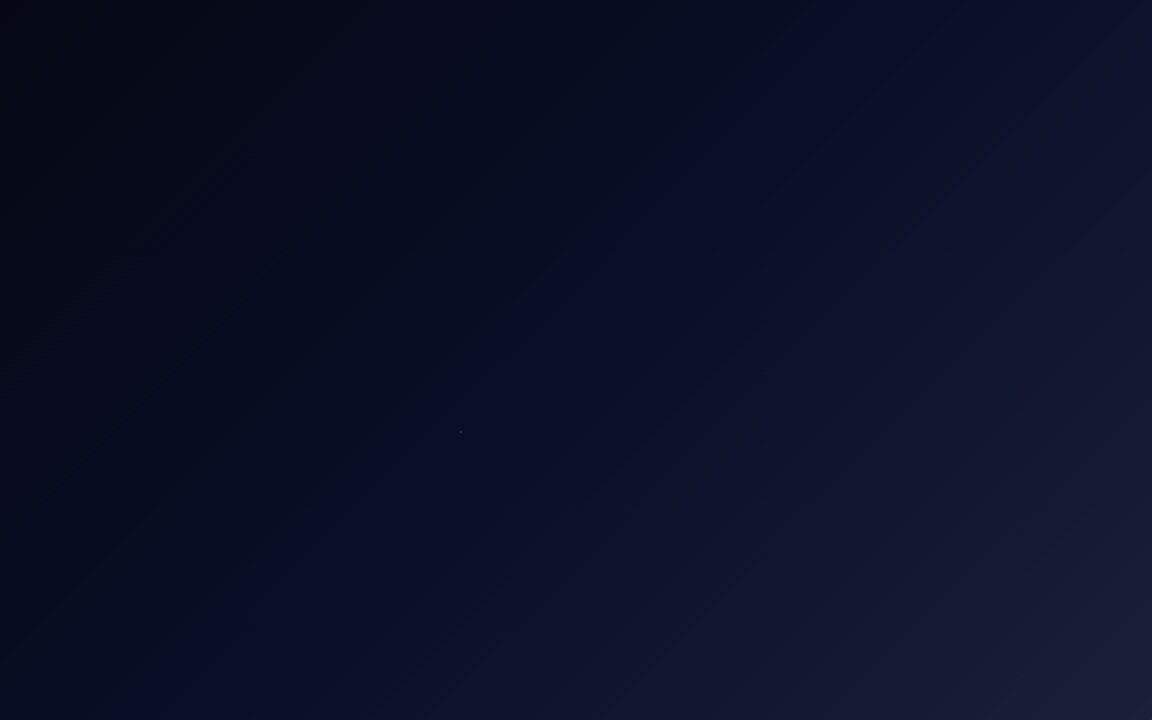
InventoryPanel › Filter Functionality › should filter to show only tradeable items
Press i
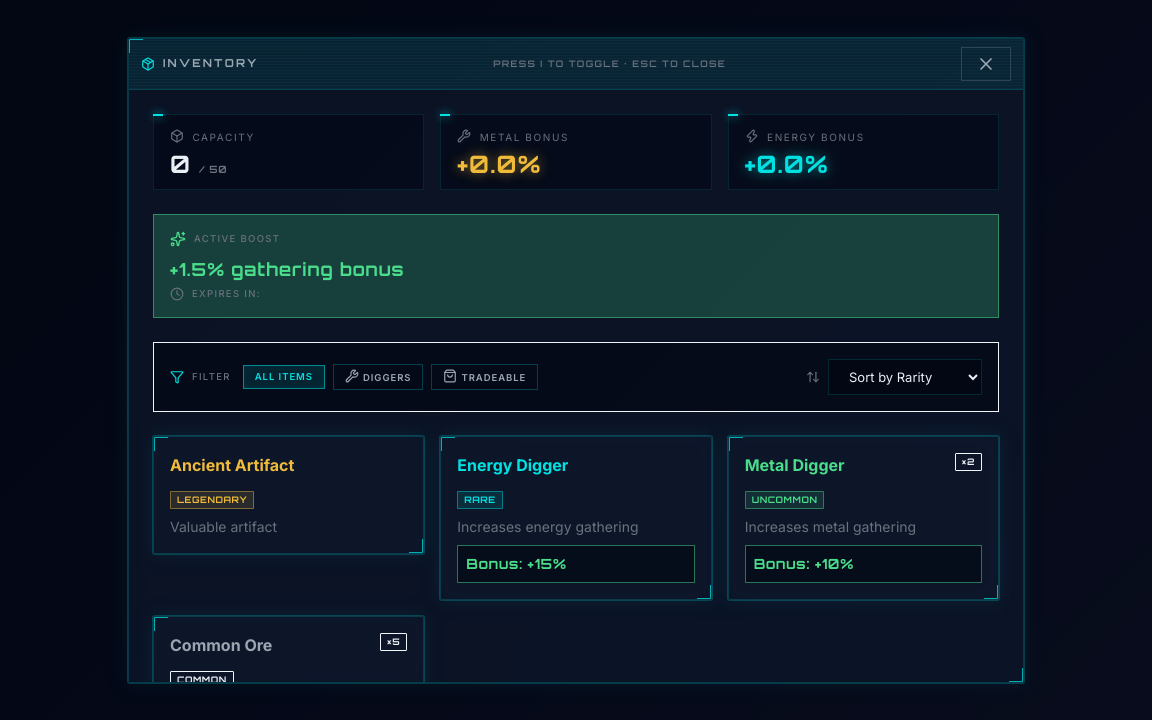
Result: the heading "Ancient Artifact" is shown at [170, 453, 294, 477]
Note: Click tradeable filter button
Click the button "Tradeable".
click(485, 377)  # box [432, 364, 538, 390]
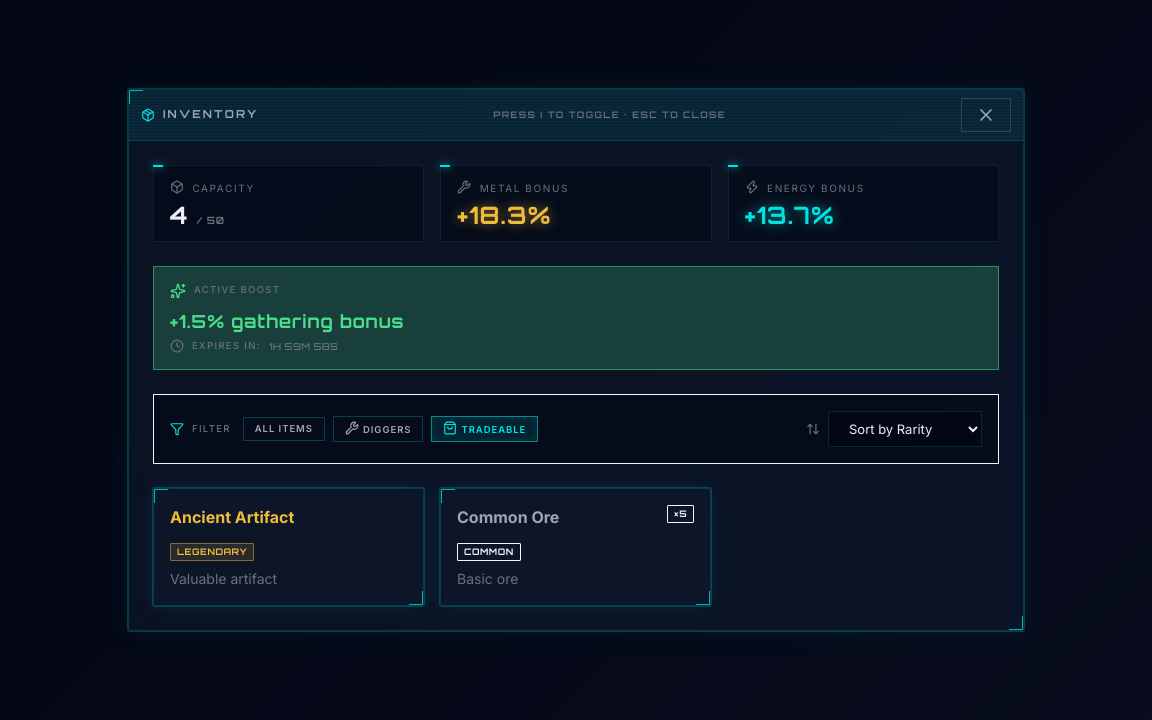
Result: the heading "Ancient Artifact" is shown at [170, 505, 294, 529]
Result: the heading "Metal Digger" is gone
Result: the heading "Energy Digger" is gone
